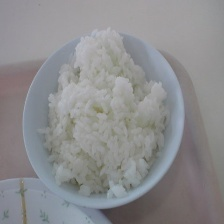rice: (30, 25, 177, 204)
